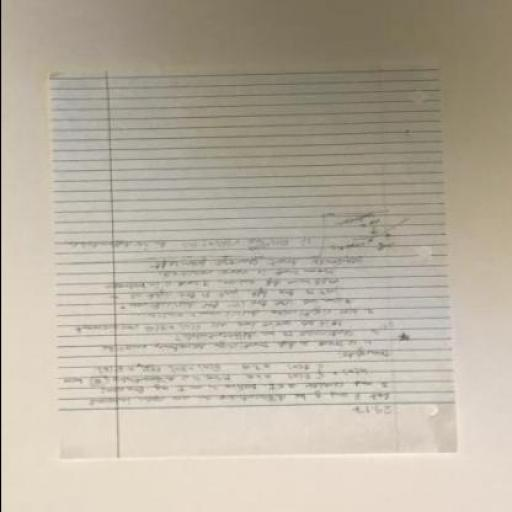paper: (49, 65, 458, 461)
